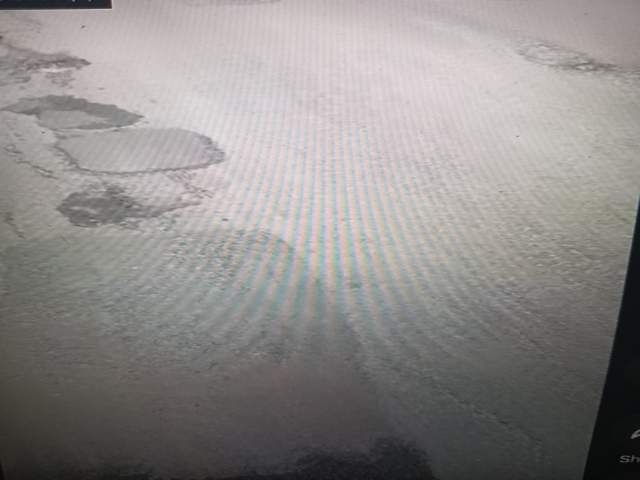pothole: (113, 403, 336, 480)
